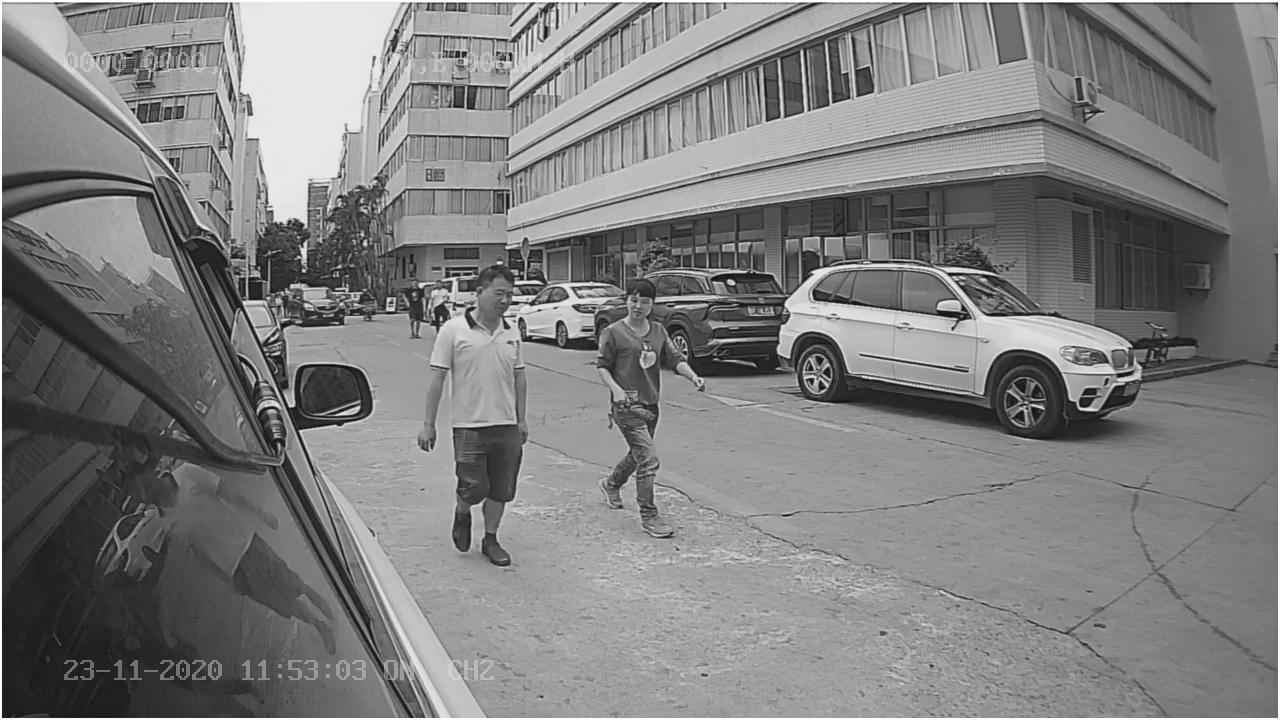person: (422, 273, 530, 556), (595, 279, 681, 539)
